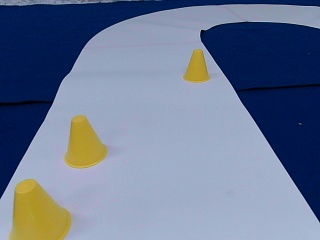cone: (10, 179, 73, 239), (63, 115, 109, 168), (183, 50, 210, 82)
